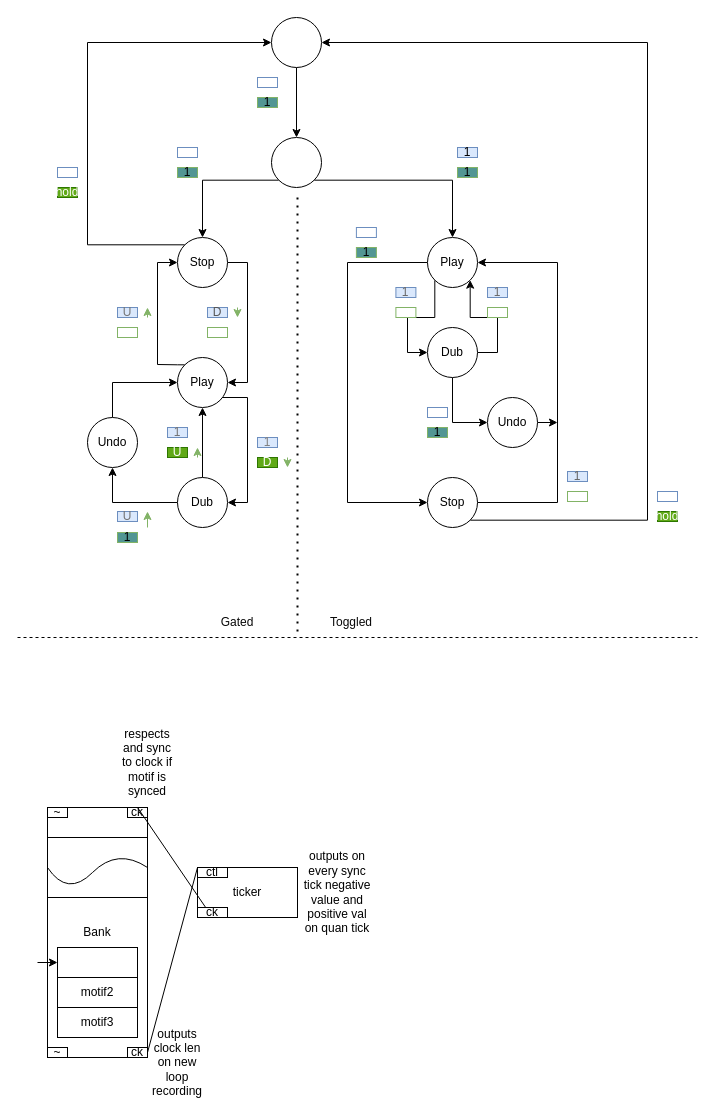
This 716x1116 diagram has some shape labels left out. The shapes that lost their labels are listed below. From the top down, each one's centre as x and y in pixels, then its label:
At [296,42]: "Clear".
At [296,162]: "Base".
At [97,962]: "motif1".
